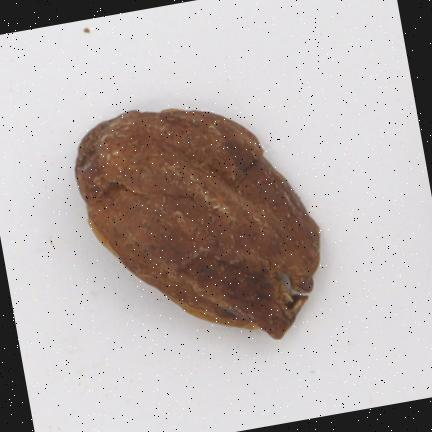full-black: (75, 110, 319, 338)
